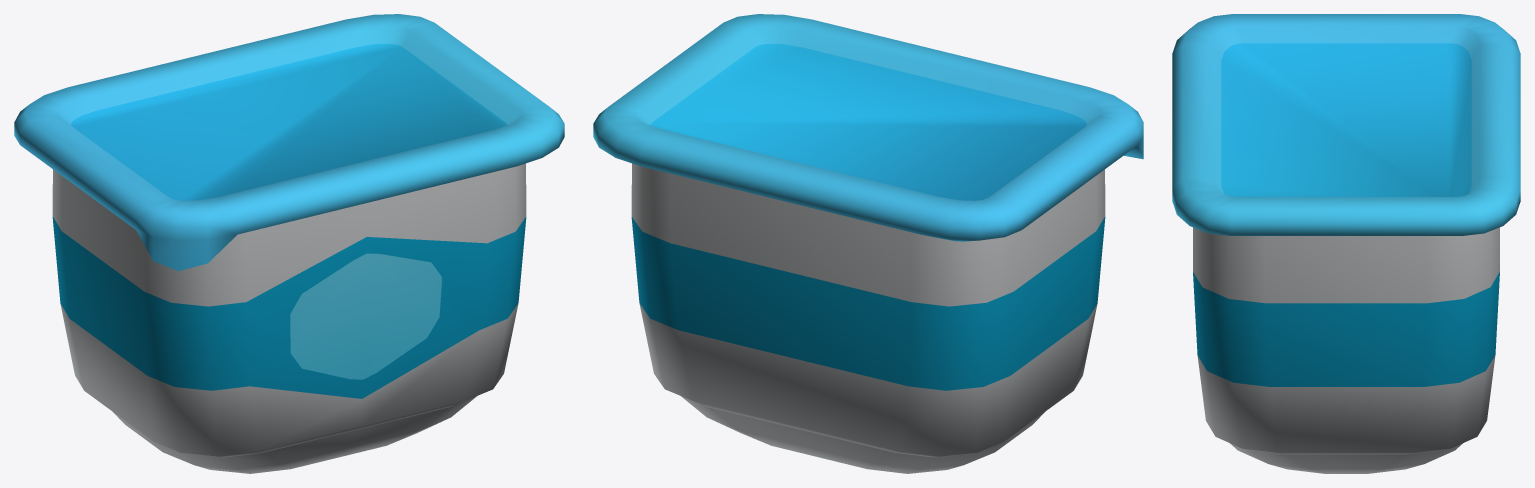
The model's file is yogurt_006.fbx.
3 renders of one model, left to right at view 1: azimuth 30°, elevation 25°; view 2: azimuth 150°, elevation 25°; view 3: azimuth 270°, elevation 25°, orthographic.
Parts seen in each view (by area): view 1: yogurt_006; view 2: yogurt_006; view 3: yogurt_006.
Part boxes in pixels (x1=…): yogurt_006: x1=14, y1=14, x2=564, y2=473; yogurt_006: x1=593, y1=14, x2=1143, y2=473; yogurt_006: x1=1172, y1=14, x2=1520, y2=473.
Bounding box in the file's own units: 7.16 × 5.16 × 4.98.
